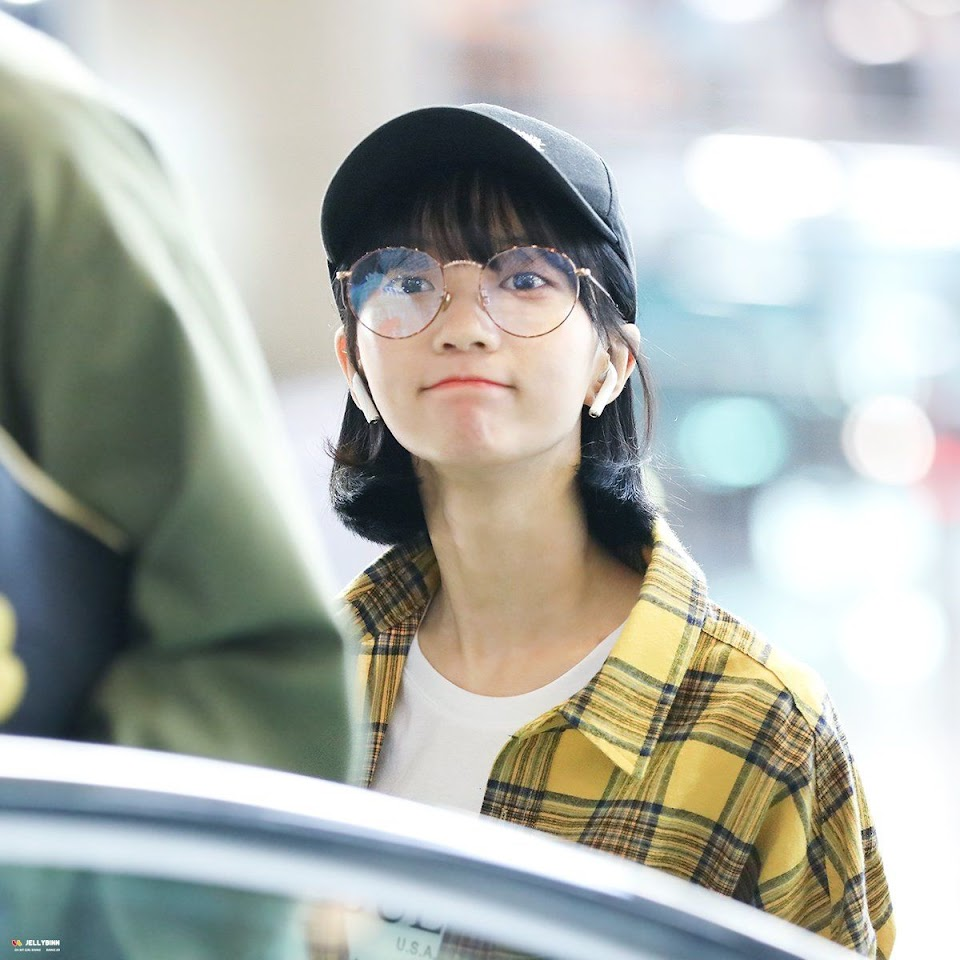earphone: (585, 323, 641, 418), (333, 324, 382, 425)
